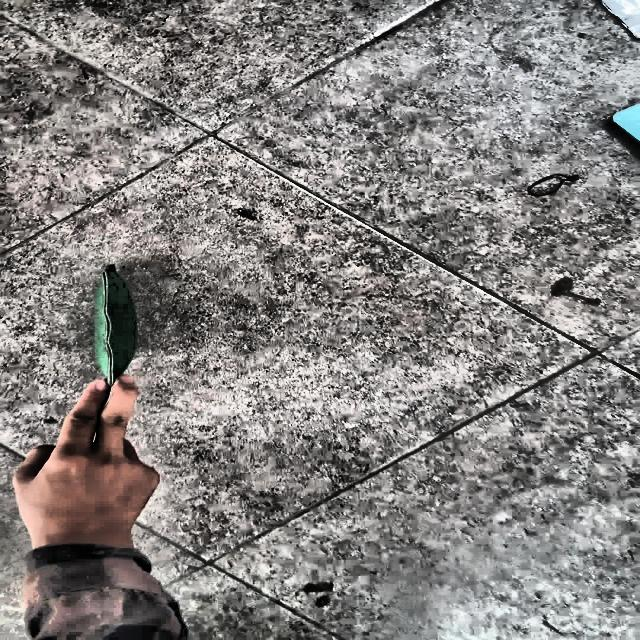payload: (95, 264, 137, 385)
